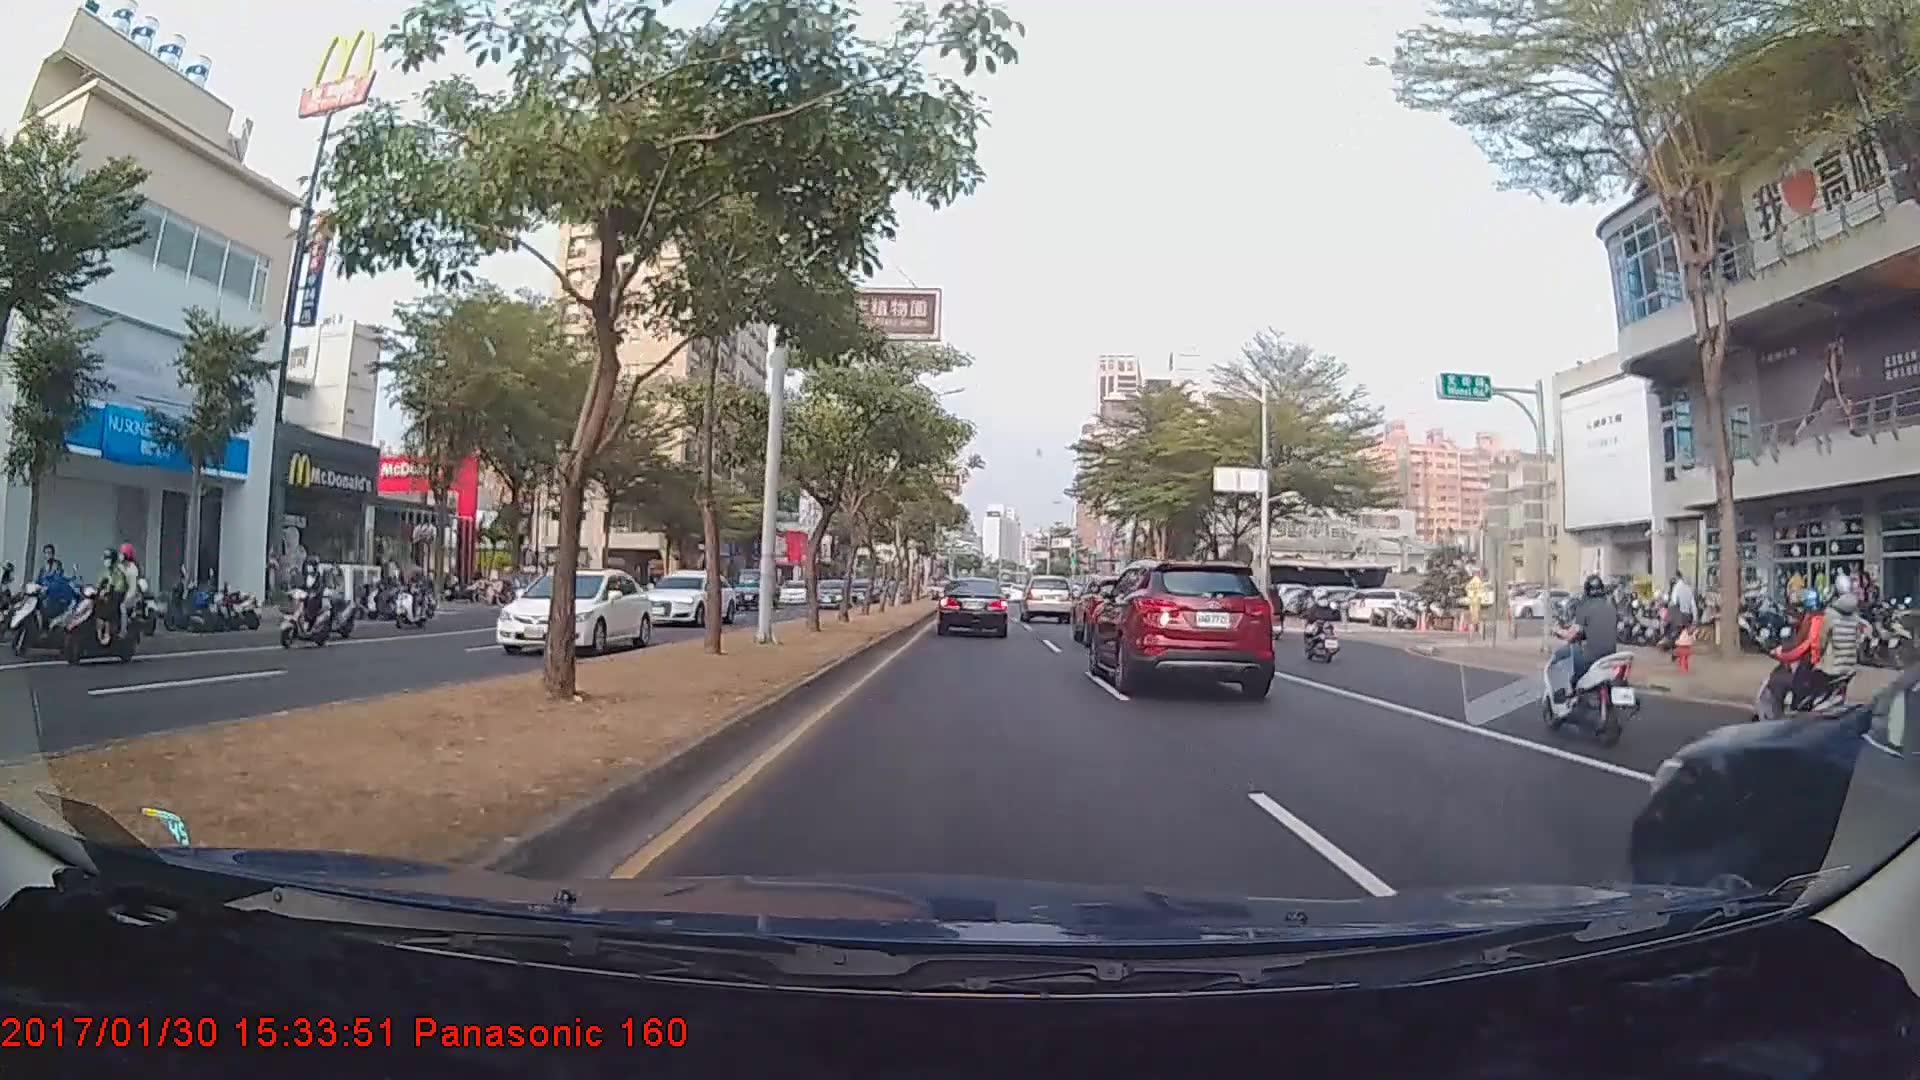pedestrian: (1668, 570, 1700, 662)
rider: (1751, 570, 1876, 732), (1533, 572, 1653, 741), (18, 543, 101, 663), (65, 546, 147, 666), (271, 556, 341, 658), (391, 566, 445, 642), (1300, 586, 1346, 668)
vehicle: (1657, 545, 1920, 926), (1088, 556, 1273, 693), (492, 571, 652, 660), (1072, 577, 1169, 654), (631, 573, 734, 627), (937, 577, 1009, 638), (1019, 572, 1075, 624), (732, 569, 781, 612)
